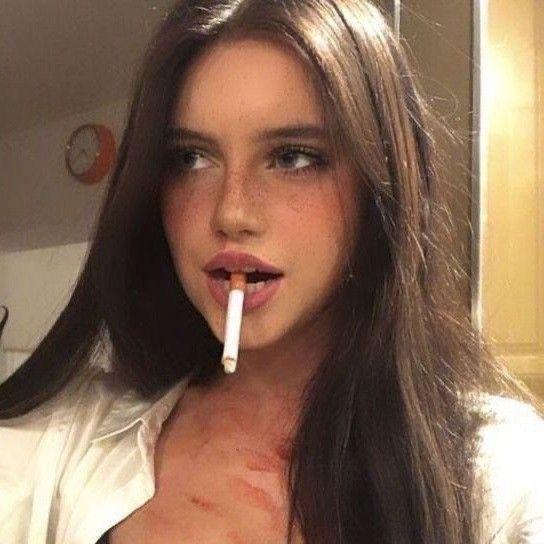cigarette: (222, 272, 246, 375)
